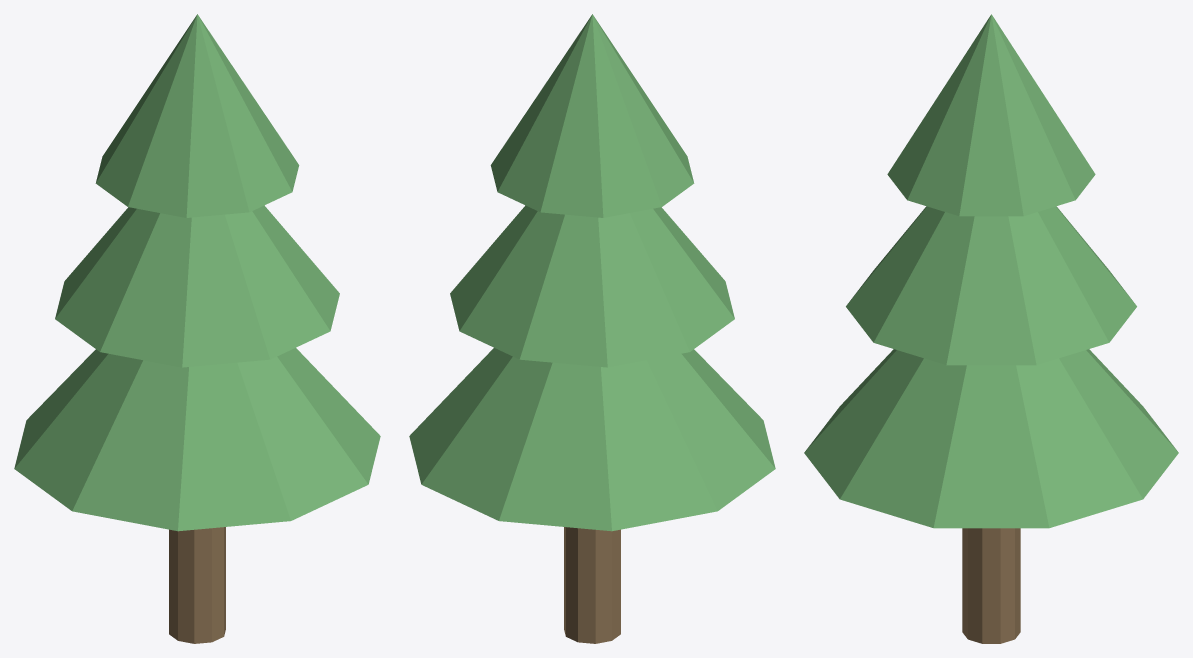
Rendered from tree.glb.
3 views of the same model, side by side, from view 1: azimuth 30°, elevation 25°; view 2: azimuth 150°, elevation 25°; view 3: azimuth 270°, elevation 25° (orthographic).
Visible parts, largest first — view 1: Tree; view 2: Tree; view 3: Tree.
Boxes of the visible parts, x1=… form: Tree: x1=14, y1=14, x2=380, y2=643; Tree: x1=409, y1=14, x2=775, y2=643; Tree: x1=804, y1=14, x2=1178, y2=643.
Size of the model in its own units: 1.71 by 3.27 by 1.8.
